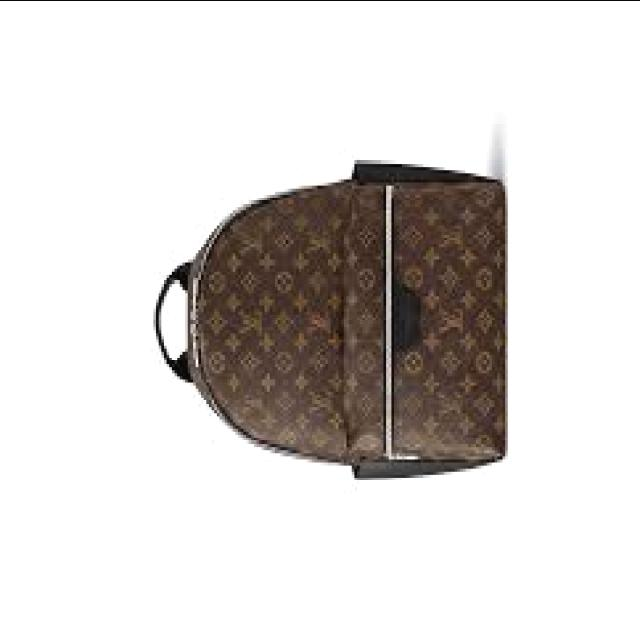backpack: (152, 164, 506, 484)
